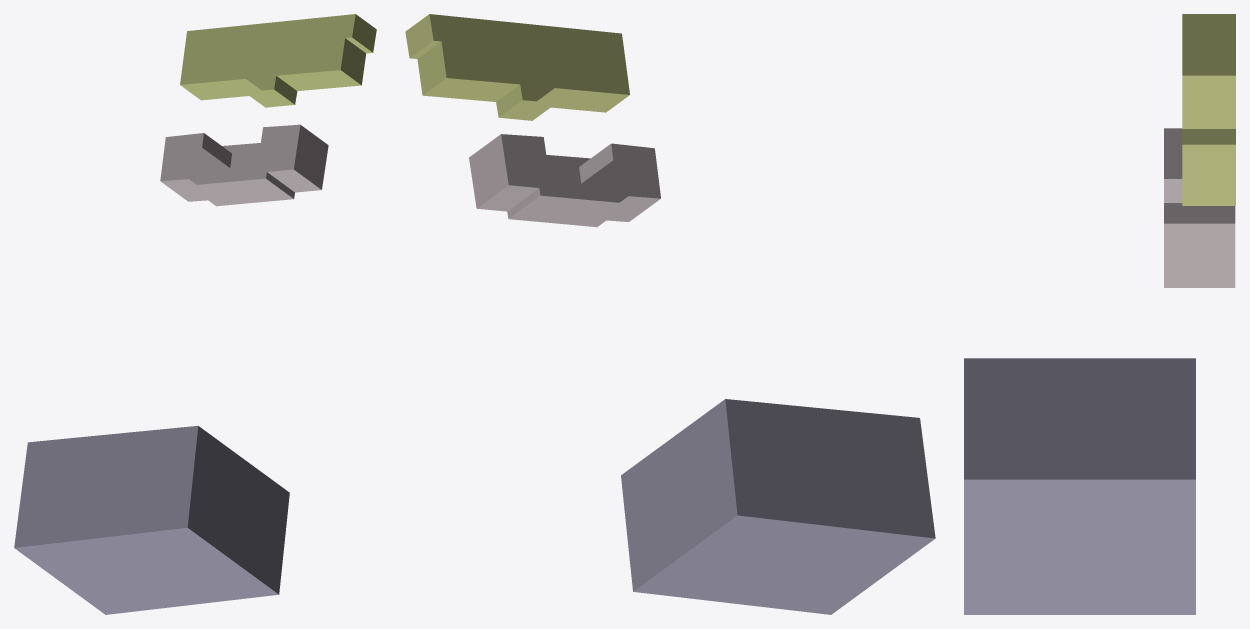
3 views of the same model, side by side, from view 1: azimuth 30°, elevation 25°; view 2: azimuth 150°, elevation 25°; view 3: azimuth 270°, elevation 25° (orthographic). The views are drawn at different scales.
Parts seen in each view (by area): view 1: 0_0_1_2_3_3_0; view 2: 0_0_1_2_3_3_0; view 3: 0_0_1_2_3_3_0.
Part boxes in pixels (left/top/right/bottom): 0_0_1_2_3_3_0: left=14, top=14, right=376, bottom=614; 0_0_1_2_3_3_0: left=405, top=14, right=935, bottom=614; 0_0_1_2_3_3_0: left=964, top=14, right=1235, bottom=614.
Bounding box in the file's own units: 87.92 × 113 × 45.7.
